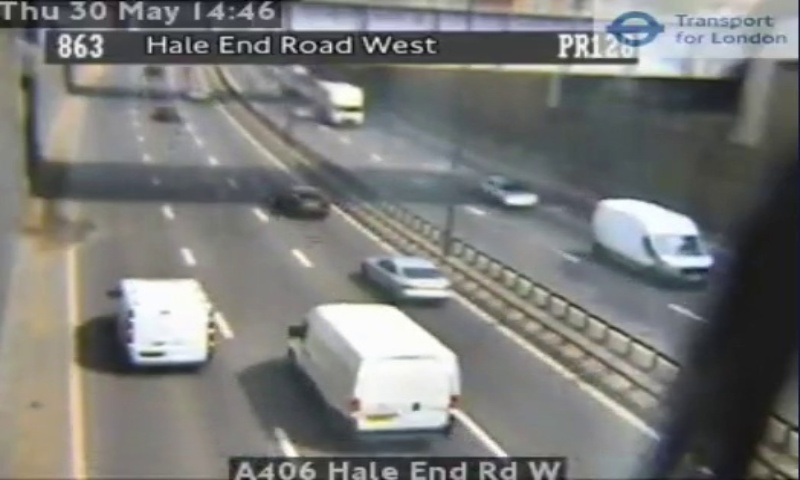car: (361, 254, 450, 299), (273, 185, 329, 217)
van: (293, 302, 458, 439), (117, 279, 213, 365)
